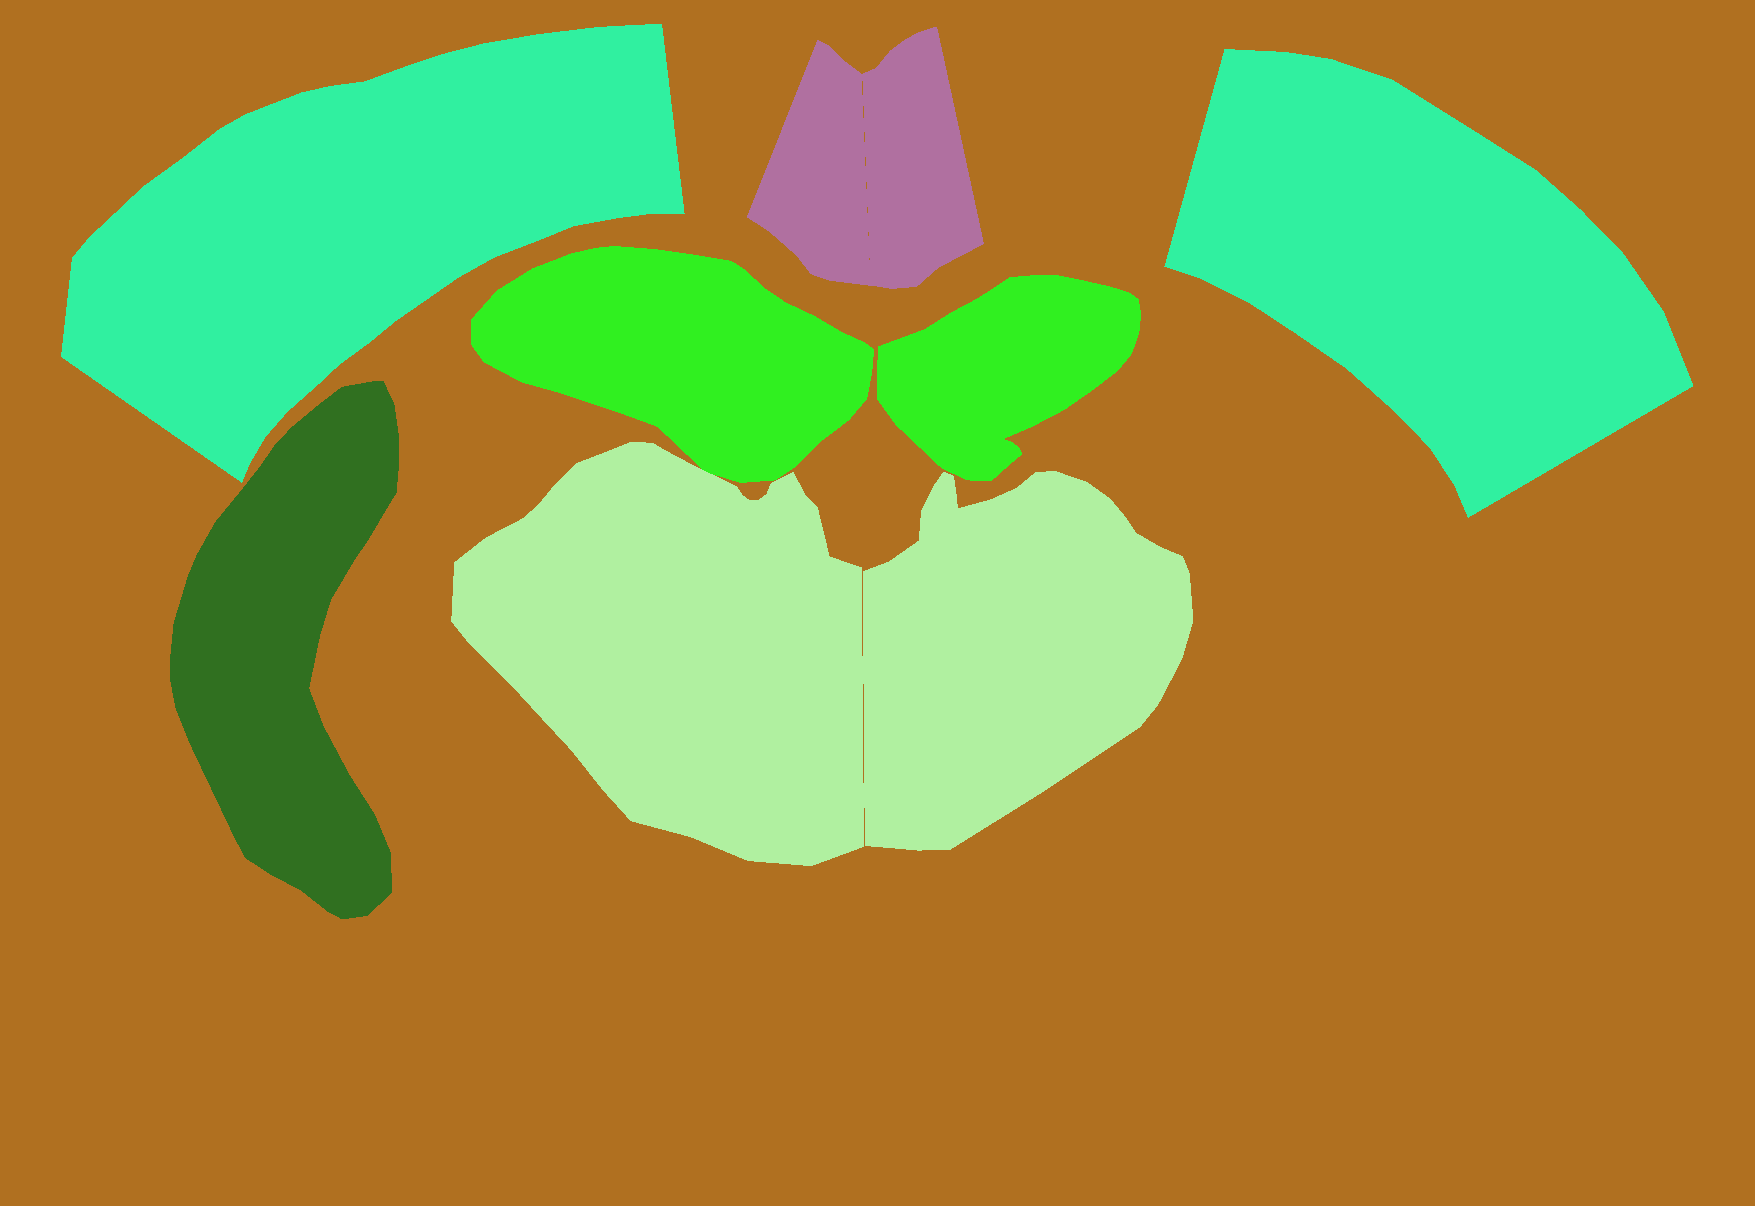Cerebral nuclei: (169, 382, 399, 919)
Hippocampal formation: (471, 245, 873, 483), (877, 275, 1142, 482)
Retrosplenial area: (861, 25, 984, 289), (747, 40, 871, 285)
Somatosensory area: (61, 24, 685, 483), (1164, 49, 1694, 518)
Thalamus: (451, 442, 864, 867), (863, 471, 1194, 851)
